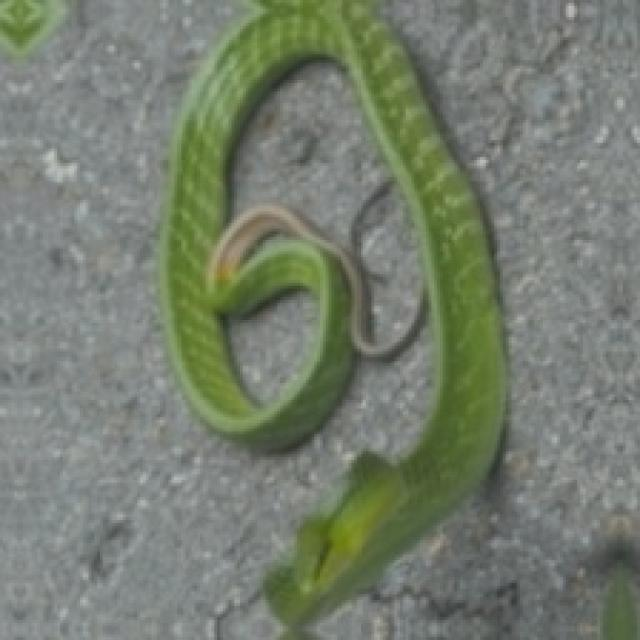red-tailed green ratsnake: (161, 0, 506, 639)
